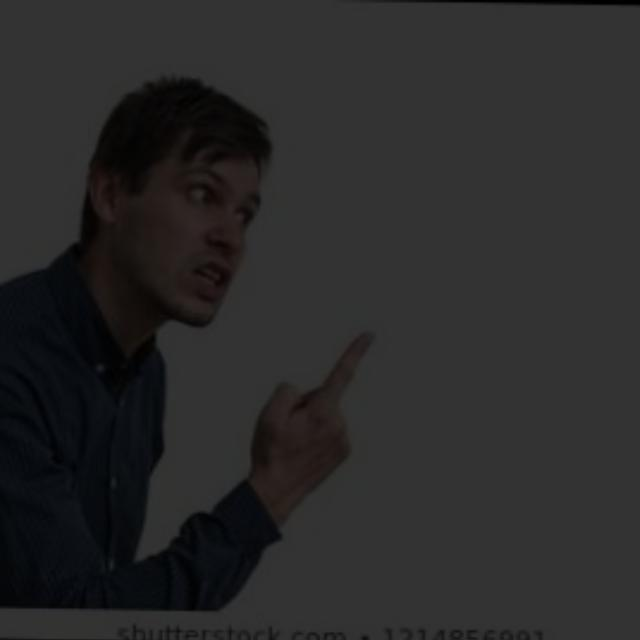Angry: (66, 27, 315, 339)
